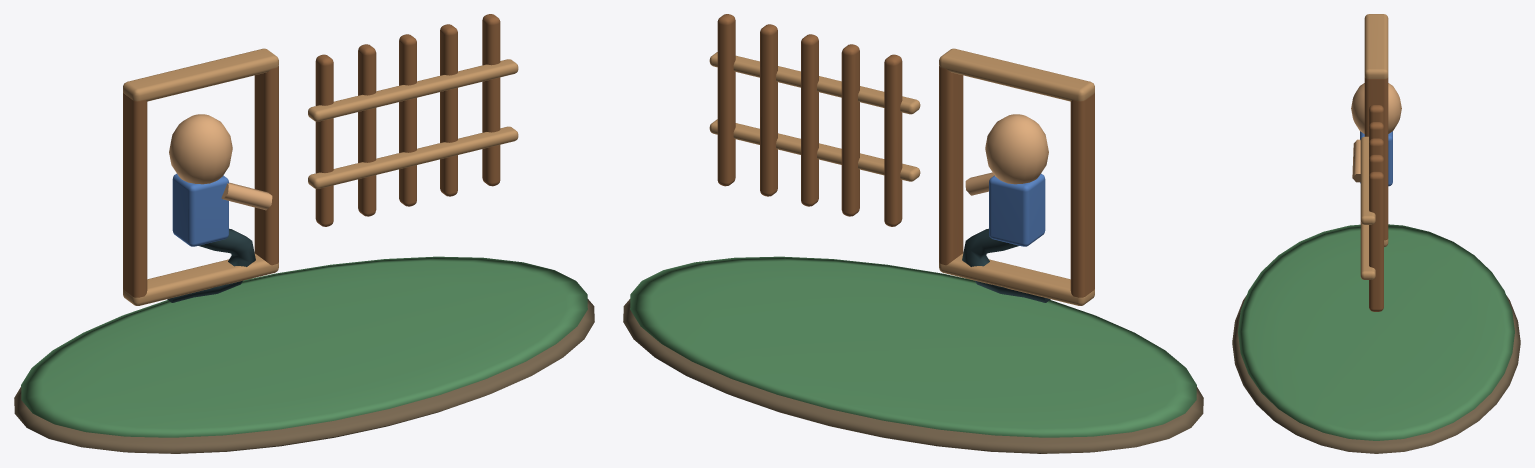
The model's file is complete-second-trapped-obstacle.glb.
3 views of the same model, side by side, from view 1: azimuth 30°, elevation 25°; view 2: azimuth 150°, elevation 25°; view 3: azimuth 270°, elevation 25° (orthographic). The views are drawn at different scales.
Parts seen in each view (by area): view 1: complete-second-trapped-obstacle_surface_01, complete-second-trapped-obstacle_surface_05, complete-second-trapped-obstacle_surface_06, complete-second-trapped-obstacle_surface_00, complete-second-trapped-obstacle_surface_02, complete-second-trapped-obstacle_surface_03, complete-second-trapped-obstacle_surface_04; view 2: complete-second-trapped-obstacle_surface_01, complete-second-trapped-obstacle_surface_05, complete-second-trapped-obstacle_surface_06, complete-second-trapped-obstacle_surface_00, complete-second-trapped-obstacle_surface_02, complete-second-trapped-obstacle_surface_03, complete-second-trapped-obstacle_surface_04; view 3: complete-second-trapped-obstacle_surface_01, complete-second-trapped-obstacle_surface_00, complete-second-trapped-obstacle_surface_05, complete-second-trapped-obstacle_surface_06, complete-second-trapped-obstacle_surface_02, complete-second-trapped-obstacle_surface_03.
Part boxes in pixels (x1,y1,x2,y2): complete-second-trapped-obstacle_surface_01: [21, 256, 587, 437]; complete-second-trapped-obstacle_surface_05: [123, 14, 500, 297]; complete-second-trapped-obstacle_surface_06: [123, 48, 518, 305]; complete-second-trapped-obstacle_surface_00: [14, 299, 594, 453]; complete-second-trapped-obstacle_surface_02: [169, 114, 272, 210]; complete-second-trapped-obstacle_surface_03: [172, 173, 228, 246]; complete-second-trapped-obstacle_surface_04: [167, 228, 255, 302]; complete-second-trapped-obstacle_surface_01: [630, 256, 1196, 437]; complete-second-trapped-obstacle_surface_05: [717, 14, 1094, 297]; complete-second-trapped-obstacle_surface_06: [709, 48, 1094, 305]; complete-second-trapped-obstacle_surface_00: [623, 299, 1203, 453]; complete-second-trapped-obstacle_surface_02: [965, 114, 1048, 195]; complete-second-trapped-obstacle_surface_03: [989, 173, 1045, 246]; complete-second-trapped-obstacle_surface_04: [962, 228, 1050, 302]; complete-second-trapped-obstacle_surface_01: [1238, 224, 1514, 440]; complete-second-trapped-obstacle_surface_00: [1232, 295, 1520, 453]; complete-second-trapped-obstacle_surface_05: [1364, 77, 1388, 311]; complete-second-trapped-obstacle_surface_06: [1360, 14, 1388, 279]; complete-second-trapped-obstacle_surface_02: [1351, 83, 1401, 182]; complete-second-trapped-obstacle_surface_03: [1360, 131, 1392, 186].
Bounding box in the file's own units: 4.56 × 2.61 × 2.5.
